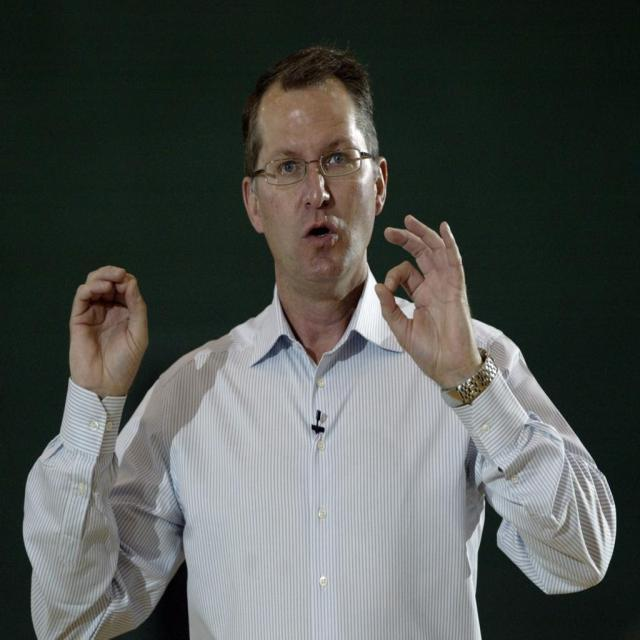Face: (245, 60, 391, 302)
